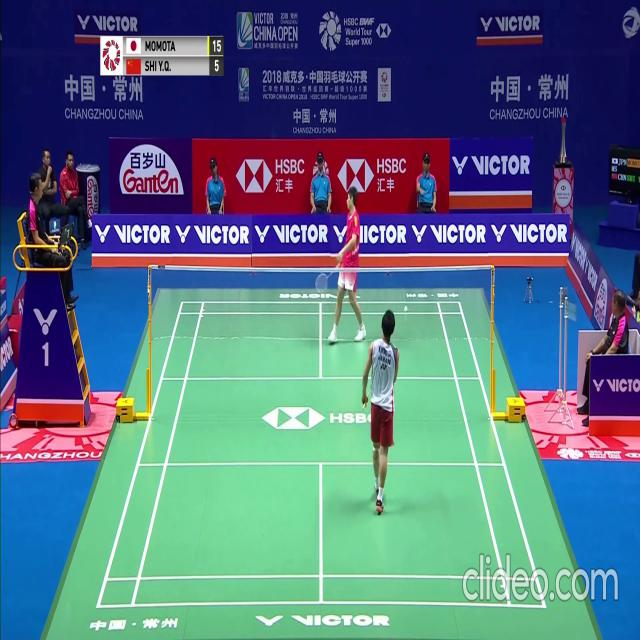Shuttlecock: (403, 304, 408, 311)
